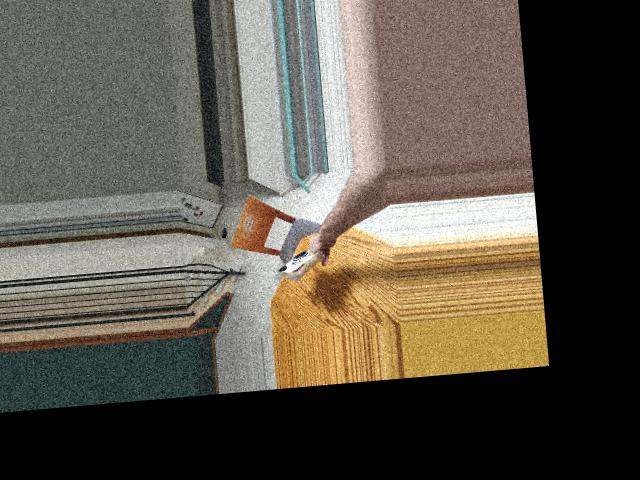cheese: (275, 244, 327, 283)
